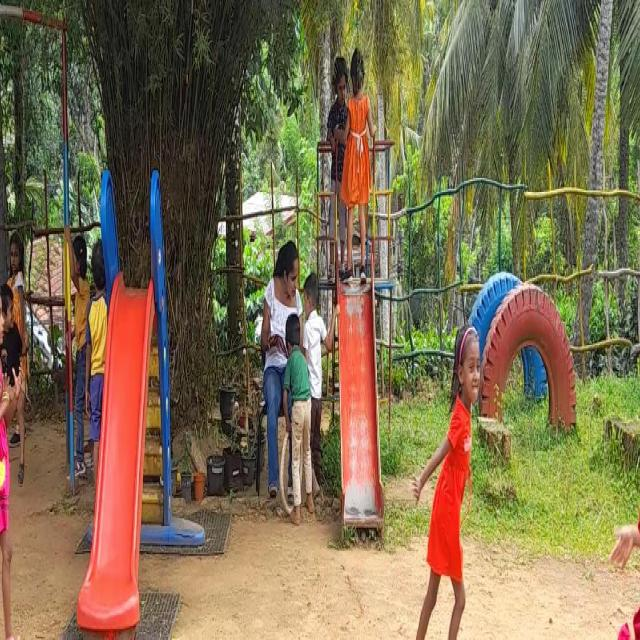adult: (251, 245, 300, 490)
child: (400, 309, 502, 640), (567, 360, 640, 640), (334, 49, 370, 293), (286, 317, 308, 521), (0, 281, 12, 640), (305, 272, 328, 456)
